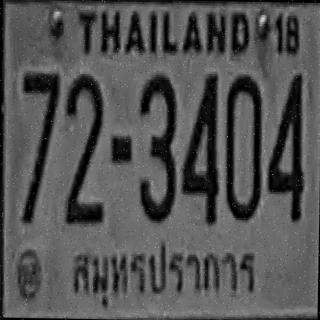N00: (223, 73, 262, 219)
N02: (62, 72, 104, 223)
N03: (136, 73, 176, 221)
N04: (180, 71, 220, 222), (266, 70, 305, 219)
N07: (19, 72, 58, 222), (20, 70, 58, 175)
P57: (65, 233, 261, 314)
